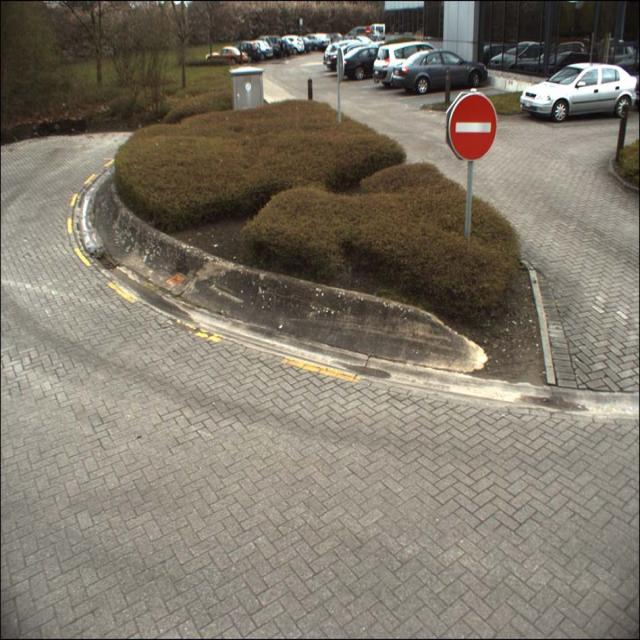girisyok: (449, 93, 497, 160)
